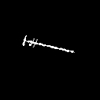treble_crochet: (23, 36, 72, 52)
